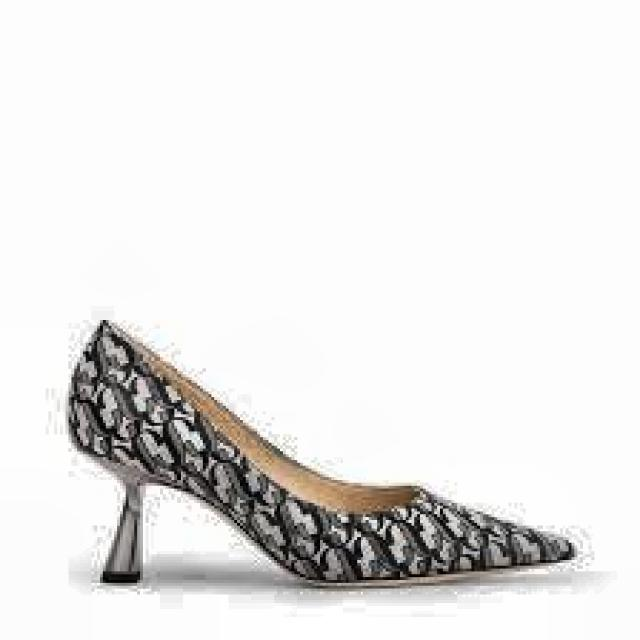shoes: (59, 314, 578, 590)
